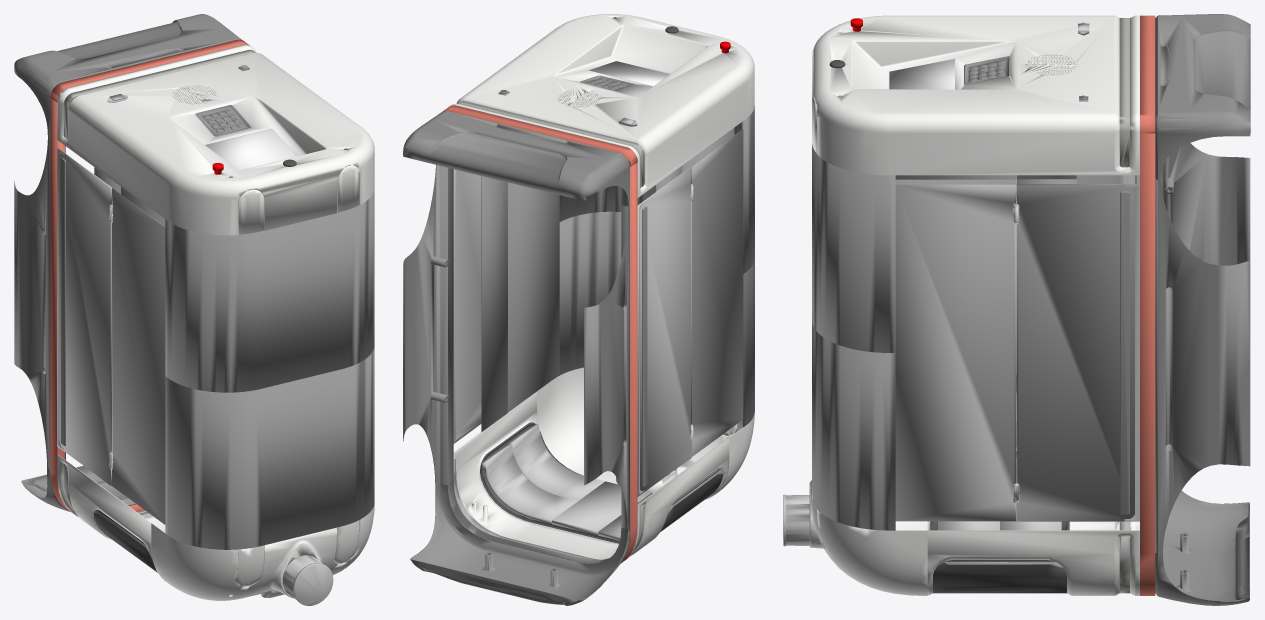
The model's file is FT_Delivery_Mesh_decimated.fbx.
3 views of the same model, side by side, from view 1: azimuth 30°, elevation 25°; view 2: azimuth 150°, elevation 25°; view 3: azimuth 270°, elevation 25° (orthographic). The views are drawn at different scales.
Parts seen in each view (by area): view 1: Body424; view 2: Body424; view 3: Body424.
Part boxes in pixels (x1,y1,x2,y2): Body424: [14, 14, 374, 605]; Body424: [403, 14, 754, 605]; Body424: [783, 14, 1250, 605].
Size of the model in its own units: 51.01 by 111 by 90.7.
